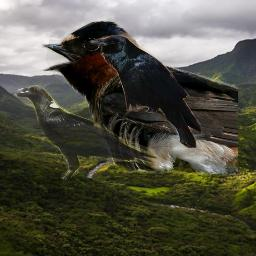Crow: (13, 85, 158, 183), (90, 35, 202, 149)
Swallow: (40, 20, 238, 176)
